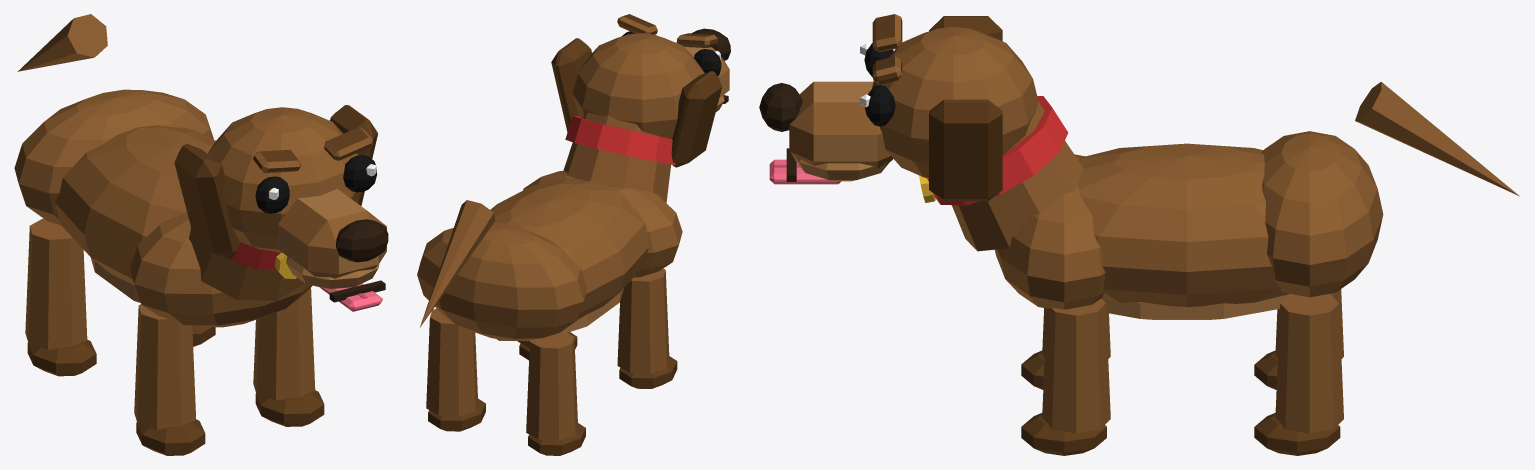
The model's file is moll.glb.
3 renders of one model, left to right at view 1: azimuth 30°, elevation 25°; view 2: azimuth 150°, elevation 25°; view 3: azimuth 270°, elevation 25°, orthographic. The views are drawn at different scales.
Parts seen in each view (by area): view 1: head-m, body-m, front-m, rear-m, leg-3-m, leg-1-m, leg-0-m, earR-m, tail-m, earL-m, eye-1-m, eye-0-m (+1 smaller); view 2: rear-m, body-m, head-m, front-m, leg-3-m, leg-1-m, leg-2-m, earR-m, tail-m, earL-m, eye-1-m; view 3: body-m, head-m, front-m, rear-m, leg-2-m, leg-0-m, earL-m, tail-m, leg-3-m, eye-0-m, leg-1-m, earR-m (+1 smaller).
Part boxes in pixels (box(x1,y1,x2,y2)): head-m: box(207, 107, 388, 302); body-m: box(55, 125, 215, 302); front-m: box(130, 212, 312, 327); rear-m: box(14, 89, 213, 225); leg-3-m: box(25, 218, 96, 376); leg-1-m: box(134, 304, 205, 455); leg-0-m: box(253, 288, 324, 426); earR-m: box(174, 144, 240, 258); tail-m: box(17, 14, 107, 71); earL-m: box(330, 105, 377, 205); eye-1-m: box(255, 176, 289, 213); eye-0-m: box(343, 155, 377, 192); rear-m: box(417, 222, 587, 340); body-m: box(490, 178, 649, 340); head-m: box(572, 14, 730, 138); front-m: box(523, 112, 682, 277); leg-3-m: box(526, 330, 585, 455); leg-1-m: box(617, 268, 677, 388); leg-2-m: box(426, 308, 485, 431); earR-m: box(671, 71, 722, 167); tail-m: box(420, 200, 495, 327); earL-m: box(551, 38, 591, 132); eye-1-m: box(694, 49, 721, 76); body-m: box(1077, 143, 1290, 319); head-m: box(759, 14, 1038, 181); front-m: box(919, 96, 1105, 309); rear-m: box(1262, 131, 1383, 297); leg-2-m: box(1254, 294, 1343, 455); leg-0-m: box(1021, 298, 1110, 455); earL-m: box(929, 99, 1002, 201); tail-m: box(1355, 81, 1519, 196); leg-3-m: box(1254, 289, 1343, 389); eye-0-m: box(860, 85, 895, 126); leg-1-m: box(1021, 308, 1110, 389); earR-m: box(929, 16, 1002, 41).
Bounding box in the file's own units: 0.98 × 1.72 × 3.1.
